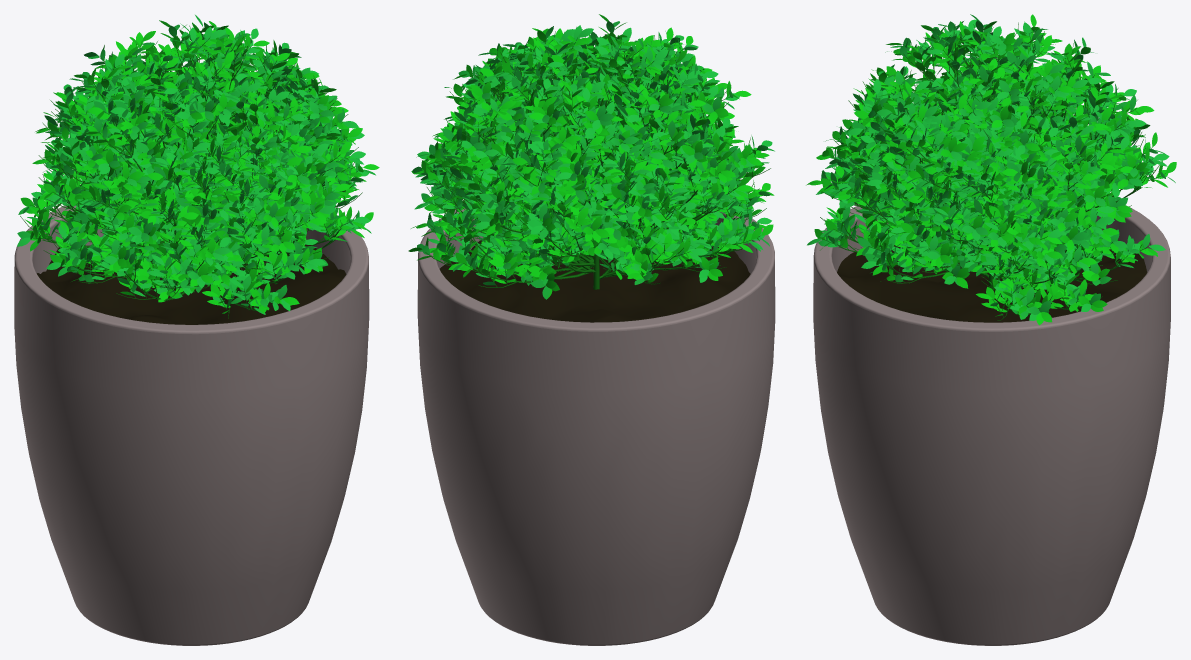
Rendered from box-wood-processed.glb.
3 renders of one model, left to right at view 1: azimuth 30°, elevation 25°; view 2: azimuth 150°, elevation 25°; view 3: azimuth 270°, elevation 25°, orthographic.
Visible parts, largest first — view 1: boxwood_plant03, boxwood_plant01, boxwood_plant02; view 2: boxwood_plant03, boxwood_plant01, boxwood_plant02; view 3: boxwood_plant03, boxwood_plant01, boxwood_plant02.
Boxes of the visible parts, box(x1,y1,x2,y2) form: boxwood_plant03: box(14, 205, 369, 645); boxwood_plant01: box(17, 15, 379, 318); boxwood_plant02: box(37, 244, 346, 324); boxwood_plant03: box(417, 202, 775, 645); boxwood_plant01: box(408, 14, 774, 299); boxwood_plant02: box(439, 239, 750, 322); boxwood_plant03: box(813, 206, 1170, 645); boxwood_plant01: box(806, 14, 1176, 325); boxwood_plant02: box(837, 245, 1147, 322).
Bounding box in the file's own units: 0.4186 × 0.6854 × 0.4123.
